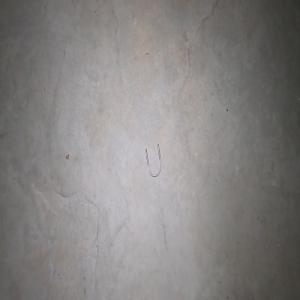ClampPart: (145, 143, 161, 177)
